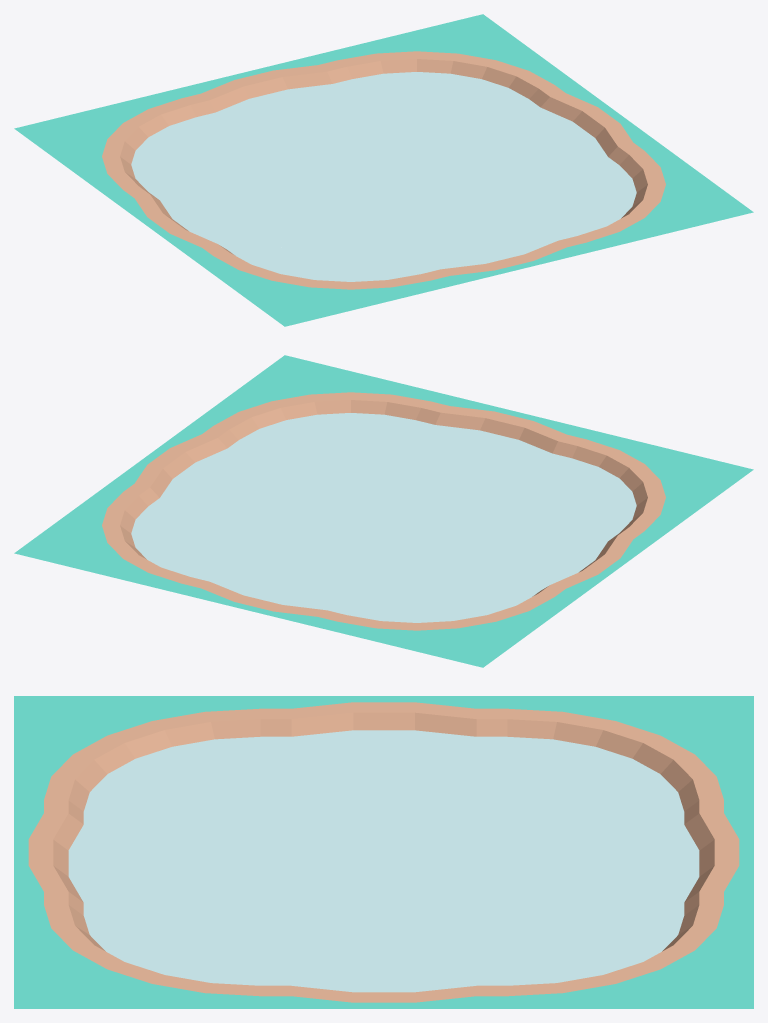
File: lake.glb
3 views of the same model, one above another, from view 1: azimuth 30°, elevation 25°; view 2: azimuth 150°, elevation 25°; view 3: azimuth 270°, elevation 25° (orthographic). The views are drawn at different scales.
Visible parts, largest first — view 1: lake.j2rv; view 2: lake.j2rv; view 3: lake.j2rv.
Boxes of the visible parts, left/top/right/bottom form: lake.j2rv: left=14, top=14, right=753, bottom=326; lake.j2rv: left=14, top=355, right=753, bottom=667; lake.j2rv: left=14, top=696, right=753, bottom=1008.
Bounding box in the file's own units: 4.16 × 0.0694 × 4.16.
